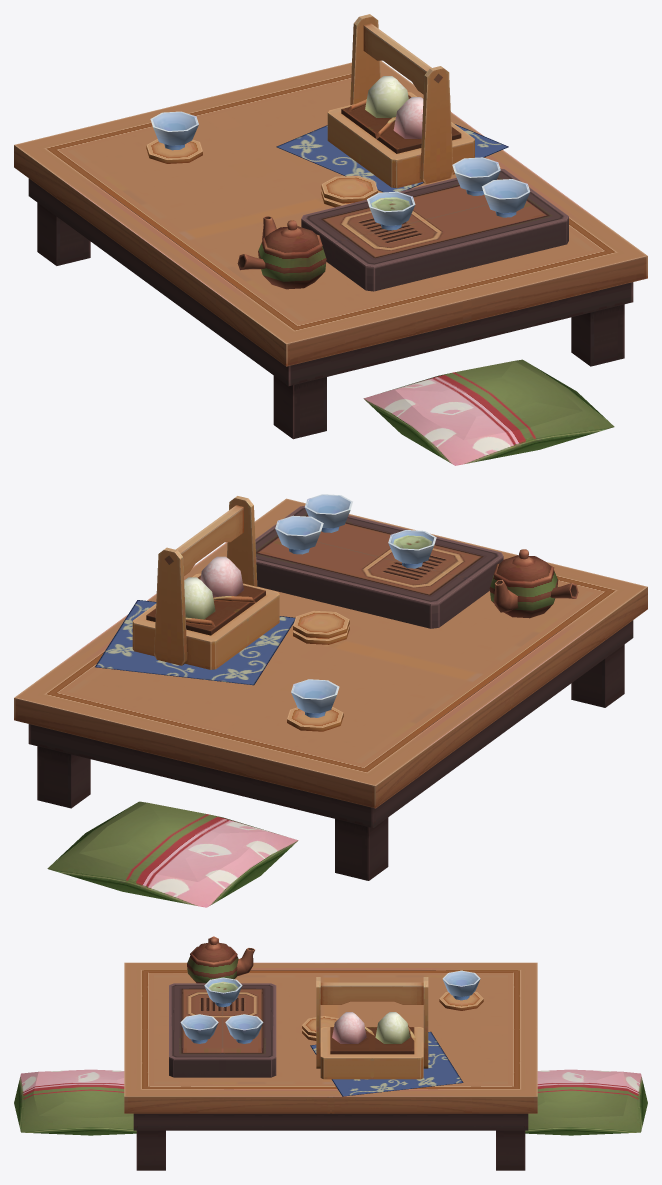
File: my_hyakkiyako_01_cusiontable_01.glb
The picture shows the model from 3 angles, top to bottom: view 1: azimuth 30°, elevation 25°; view 2: azimuth 150°, elevation 25°; view 3: azimuth 270°, elevation 25°; orthographic projection. The views are drawn at different scales.
Visible parts, largest first — view 1: my_hyakkiyako_01_cusiontable_01; view 2: my_hyakkiyako_01_cusiontable_01; view 3: my_hyakkiyako_01_cusiontable_01.
Part boxes in pixels (x1=…): my_hyakkiyako_01_cusiontable_01: x1=14, y1=14, x2=647, y2=465; my_hyakkiyako_01_cusiontable_01: x1=14, y1=494, x2=647, y2=907; my_hyakkiyako_01_cusiontable_01: x1=14, y1=936, x2=647, y2=1170.
Size of the model in its own units: 0.00839 by 0.00479 by 0.0165.
Materials: 1 (1 with a texture image).
